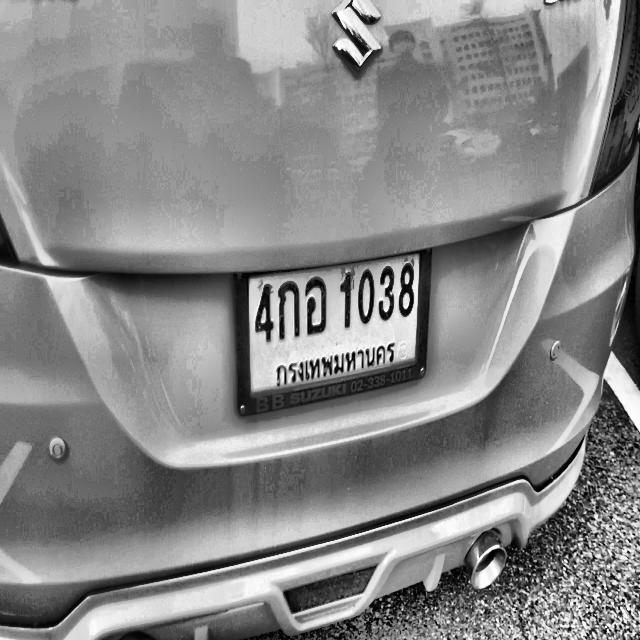license-plate: (231, 238, 436, 420)
